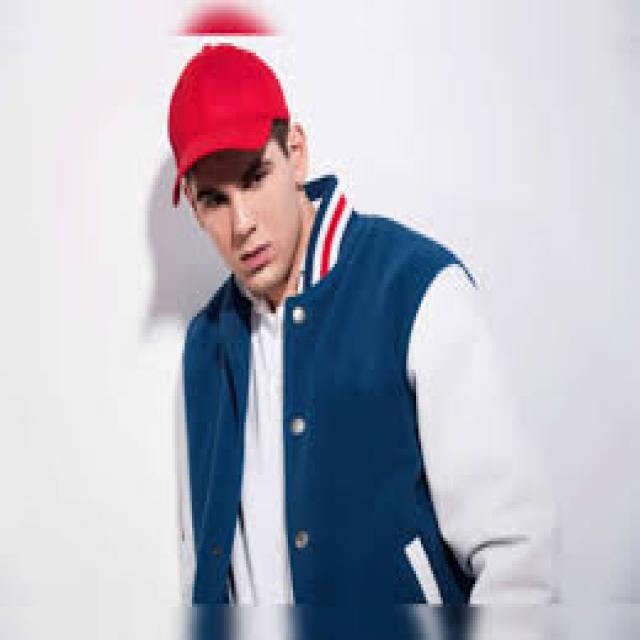3_gorra: (165, 39, 291, 209)
